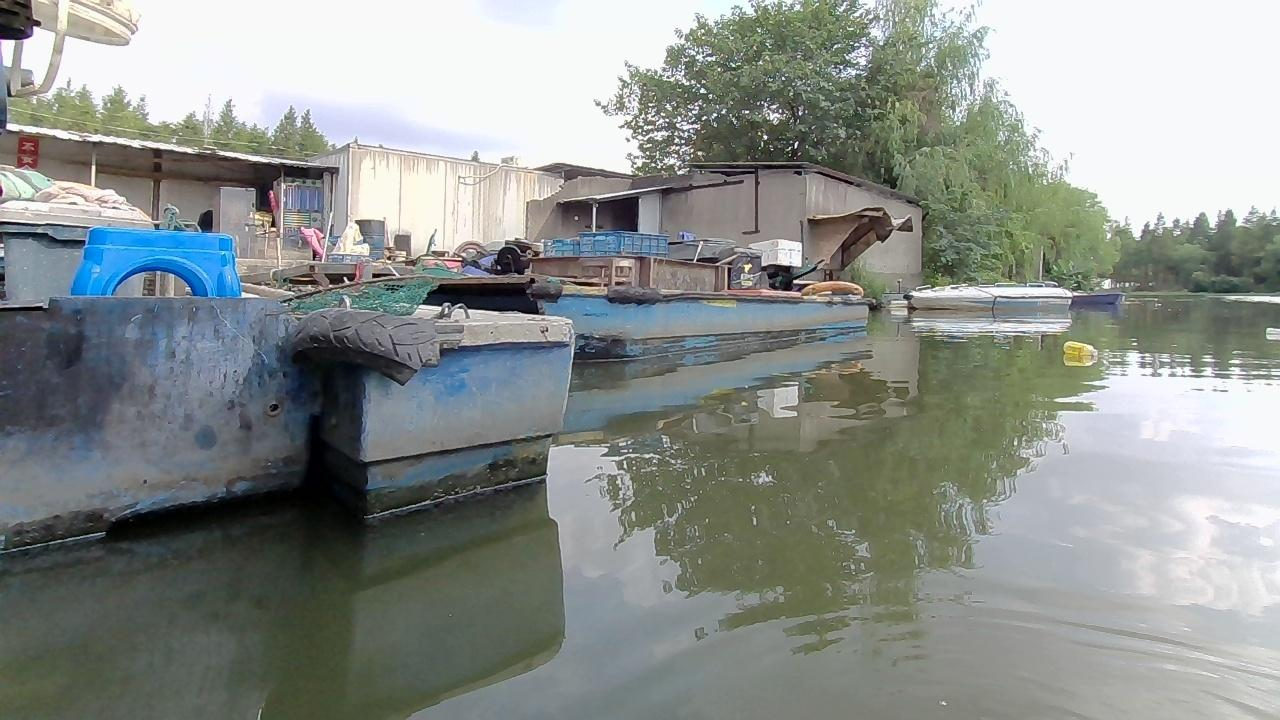bottle: (1060, 335, 1101, 360), (1261, 322, 1279, 336)
